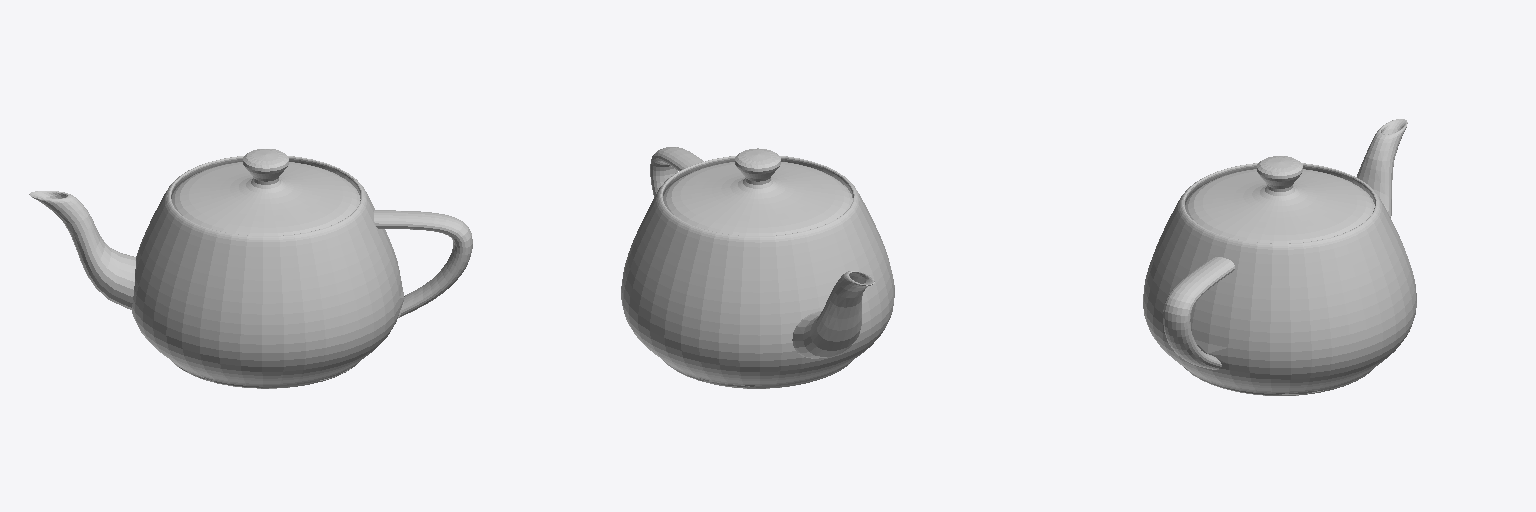
The picture shows the model from 3 angles: view 1: azimuth 30°, elevation 25°; view 2: azimuth 150°, elevation 25°; view 3: azimuth 270°, elevation 25°; orthographic projection.
Visible parts, largest first — view 1: Teapot; view 2: Teapot; view 3: Teapot.
Boxes of the visible parts, x1=… form: Teapot: x1=29, y1=149, x2=472, y2=388; Teapot: x1=621, y1=147, x2=894, y2=388; Teapot: x1=1143, y1=119, x2=1416, y2=395.
Size of the model in its own units: 5.5 by 3.15 by 3.93.